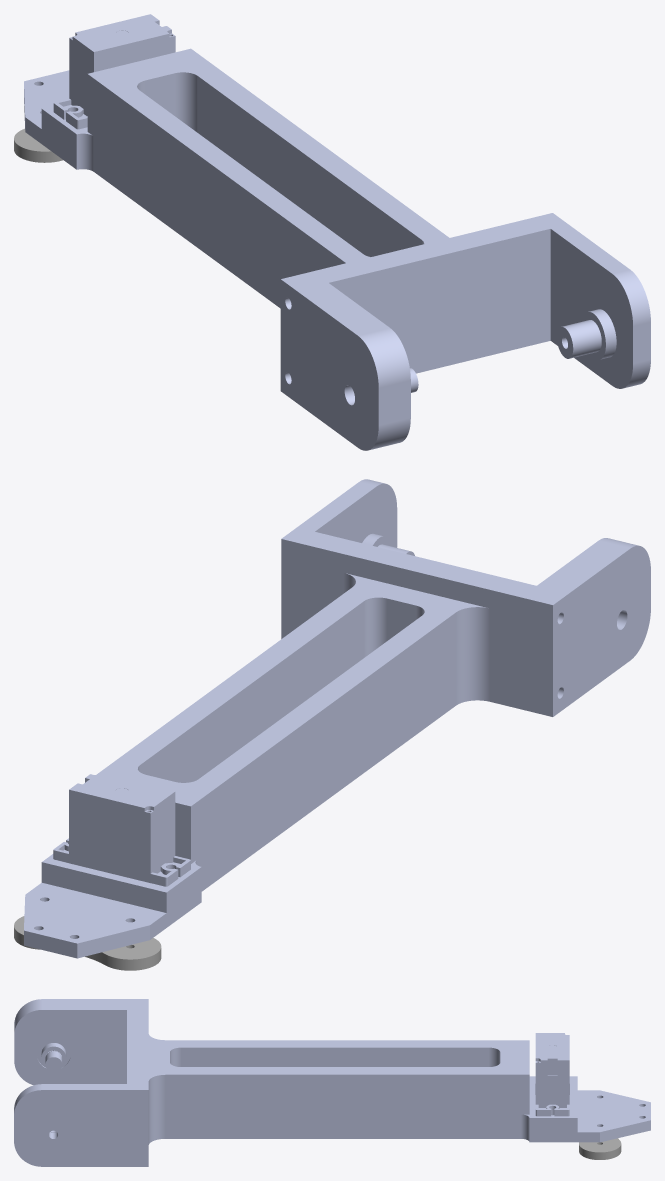
Rendered from gripper_link.dae.
The picture shows the model from 3 angles, top to bottom: view 1: azimuth 30°, elevation 25°; view 2: azimuth 150°, elevation 25°; view 3: azimuth 270°, elevation 25°; orthographic projection. The views are drawn at different scales.
Parts seen in each view (by area): view 1: gripper_link; view 2: gripper_link; view 3: gripper_link.
Part boxes in pixels (left/top/right/bottom): gripper_link: left=14, top=14, right=650, bottom=450; gripper_link: left=14, top=479, right=650, bottom=970; gripper_link: left=14, top=999, right=650, bottom=1166.
Size of the model in its own units: 0.0762 by 0.2254 by 0.036.
